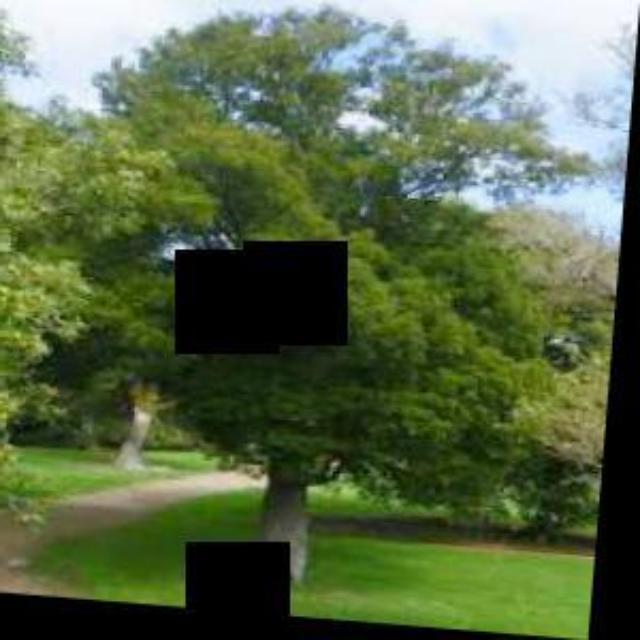tree: (19, 0, 590, 608)
